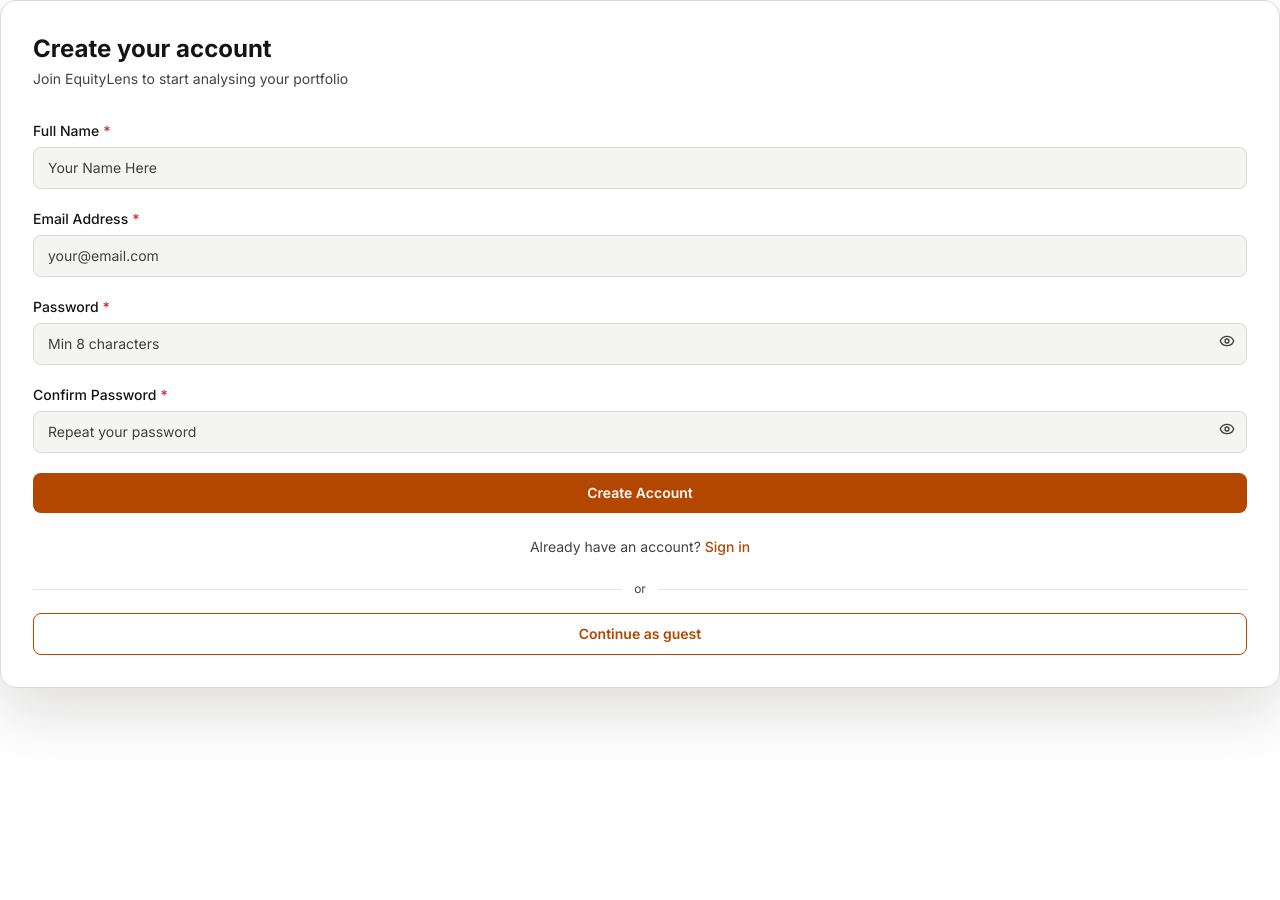
Test: Register guest option › says the demo is busy when the server is at capacity
What coordinates should you click on to do the following:
click the button "Continue as guest"
I would click on:
 (640, 634)
Its box is [33,613,1247,655].
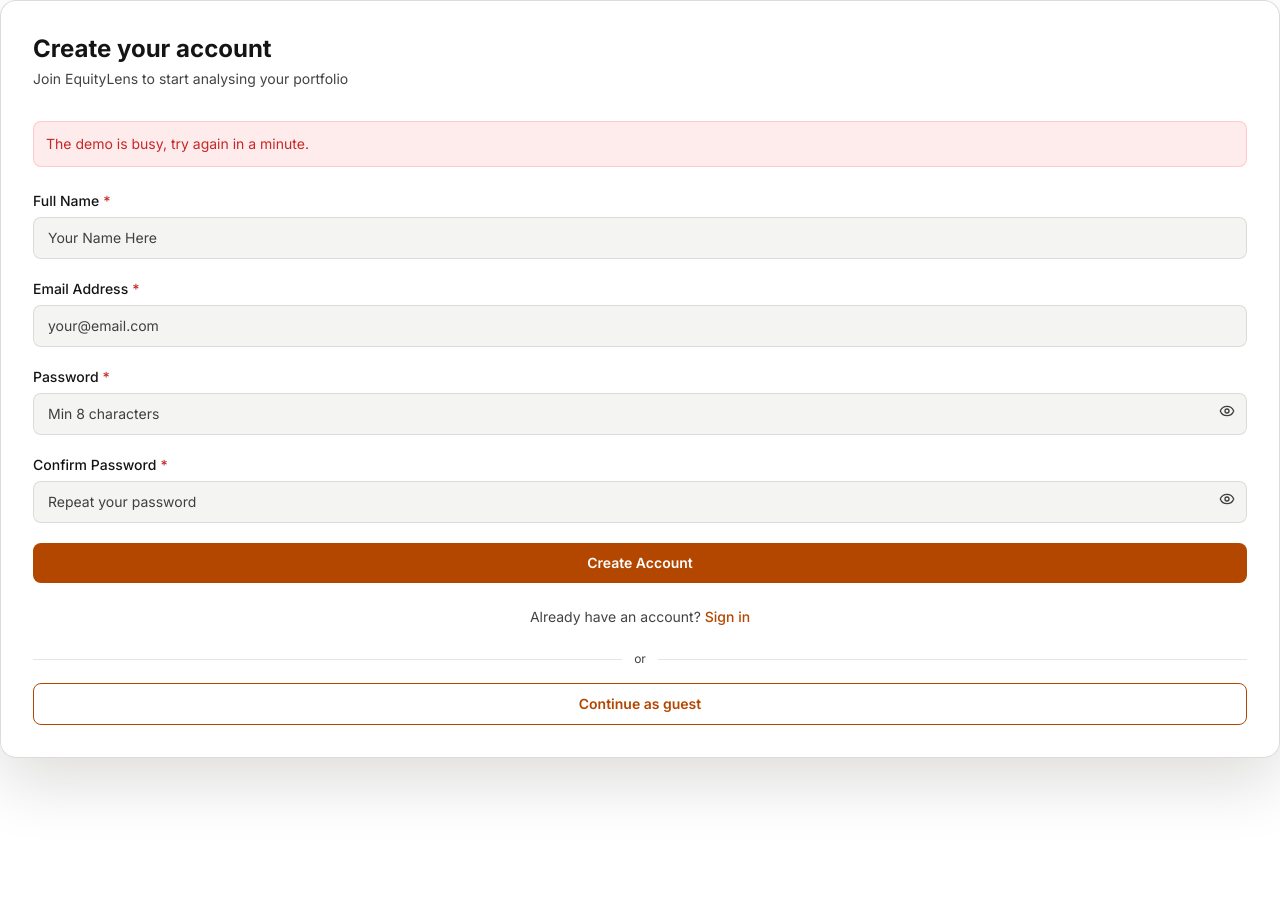
Now the message reads "The demo is busy, try again in a minute.", box [46,135,309,152]
